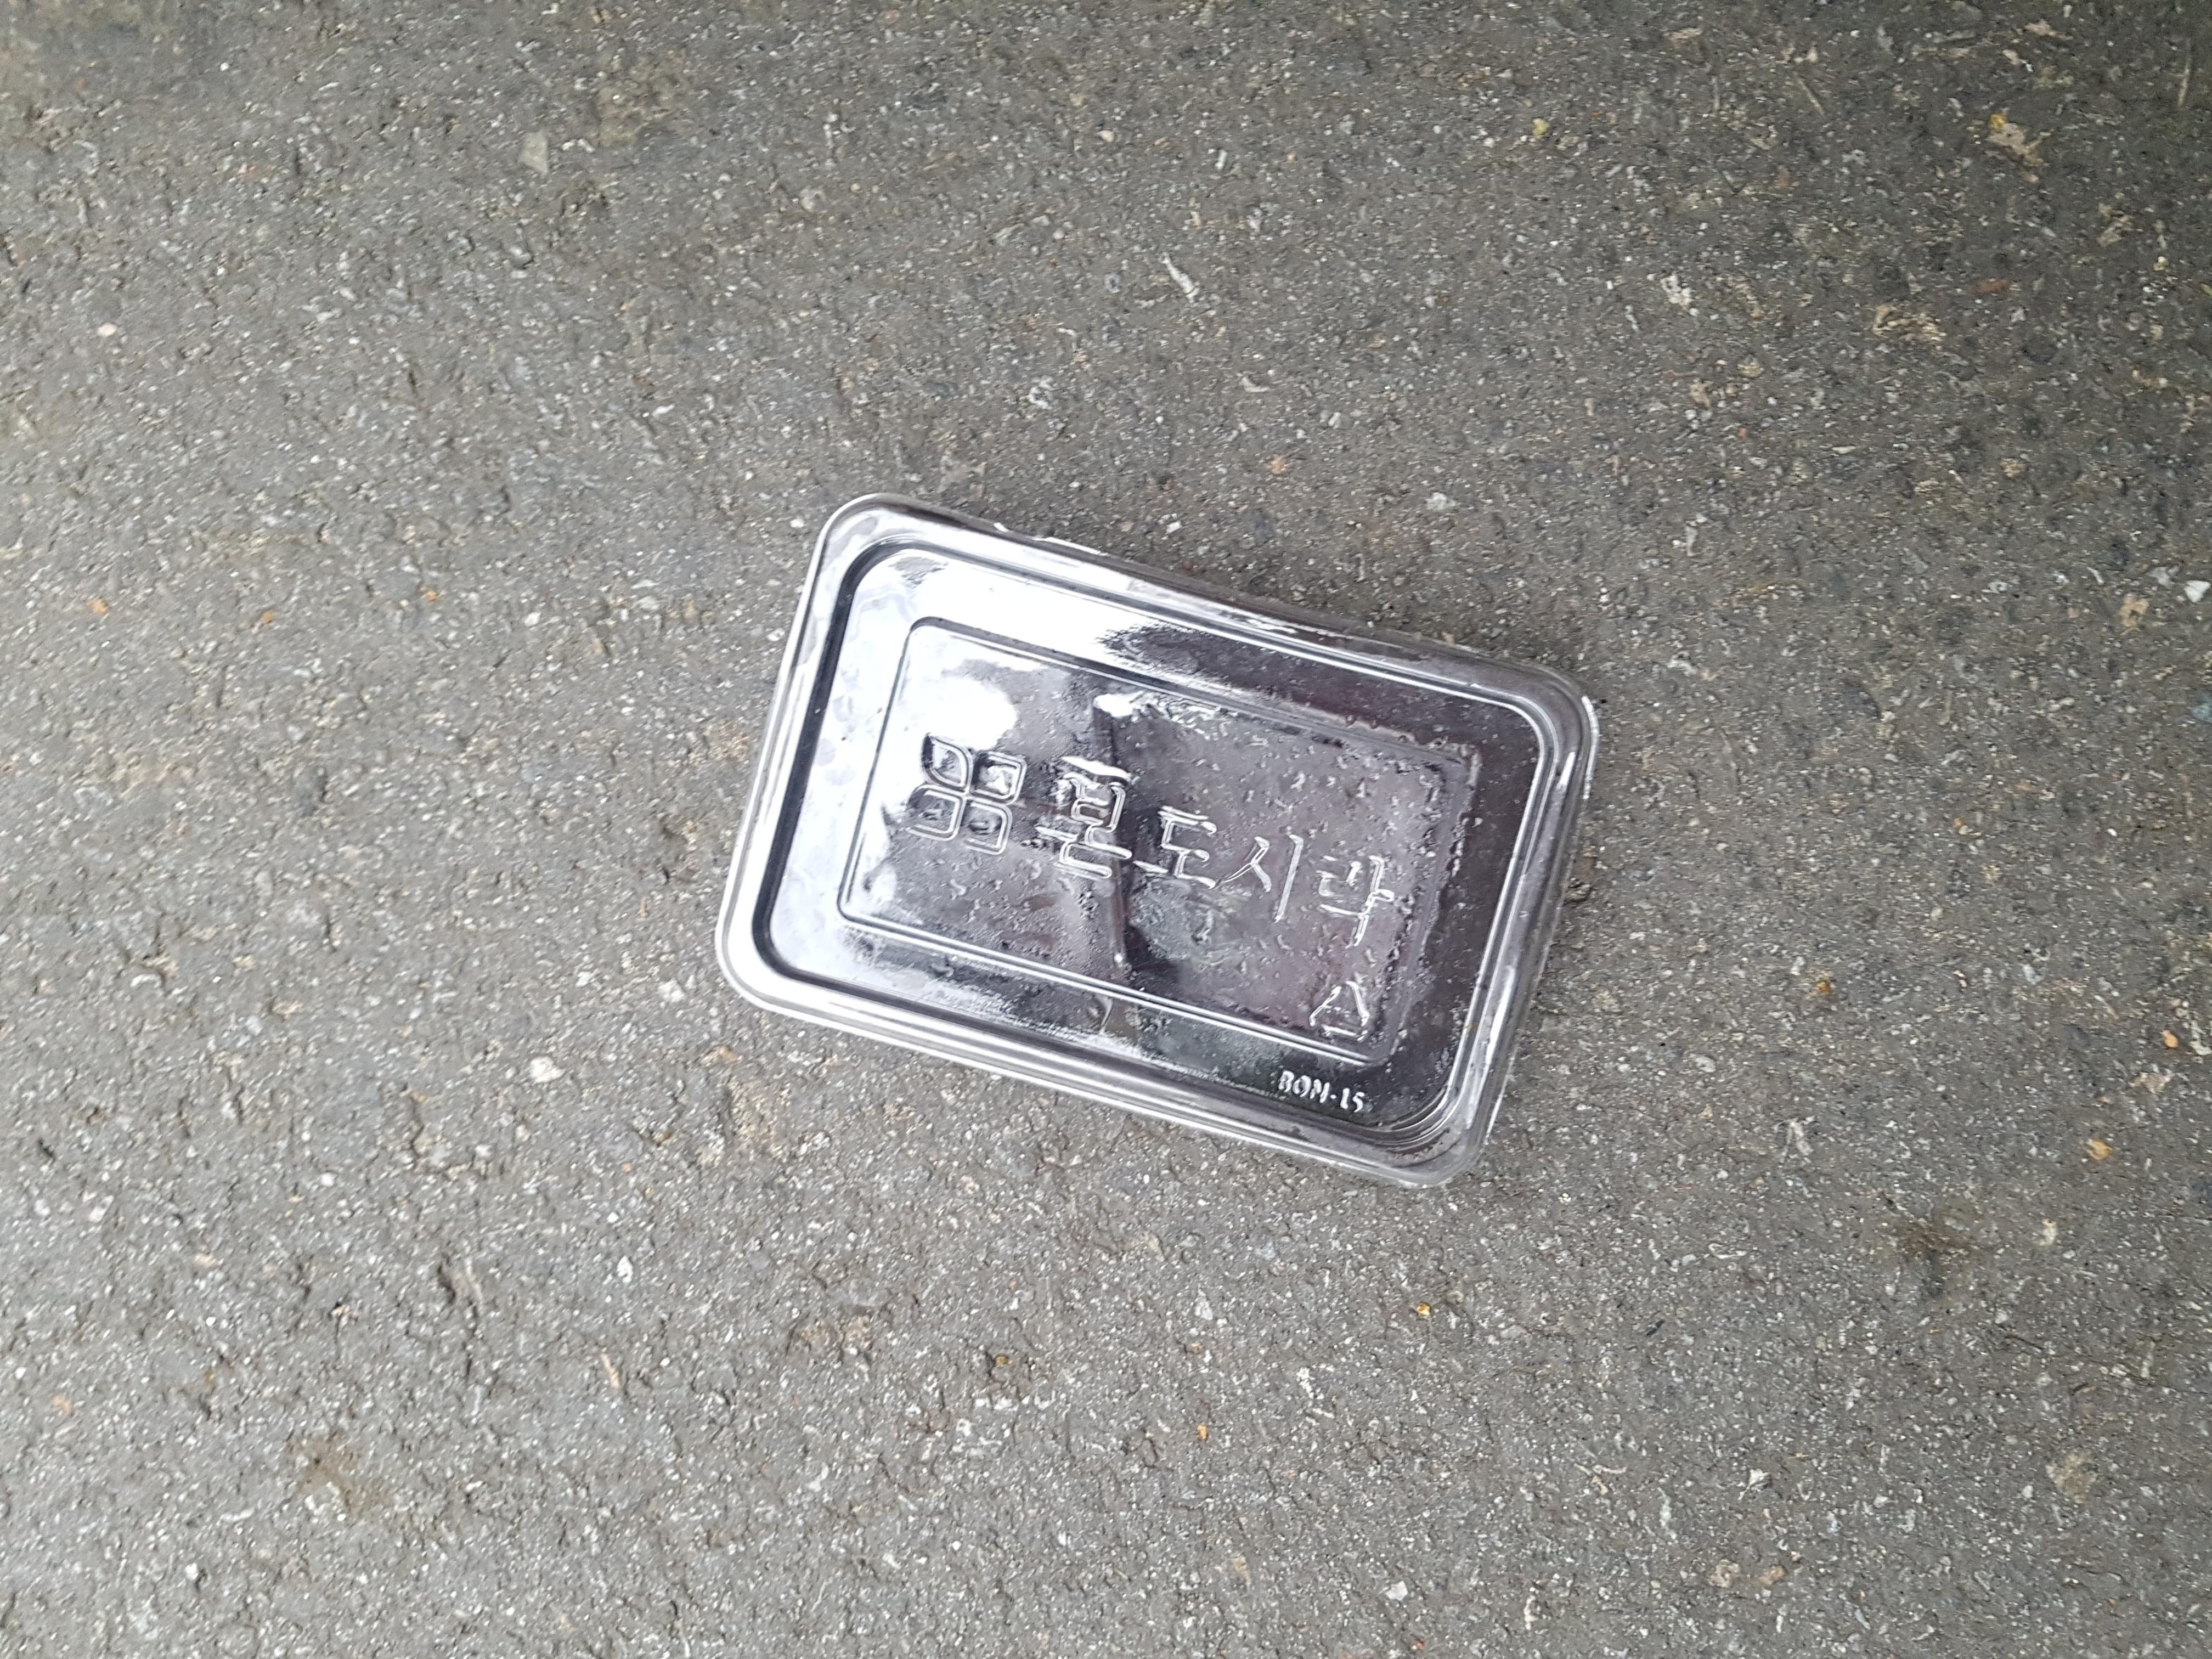bottle: (453, 545, 1317, 1227)
